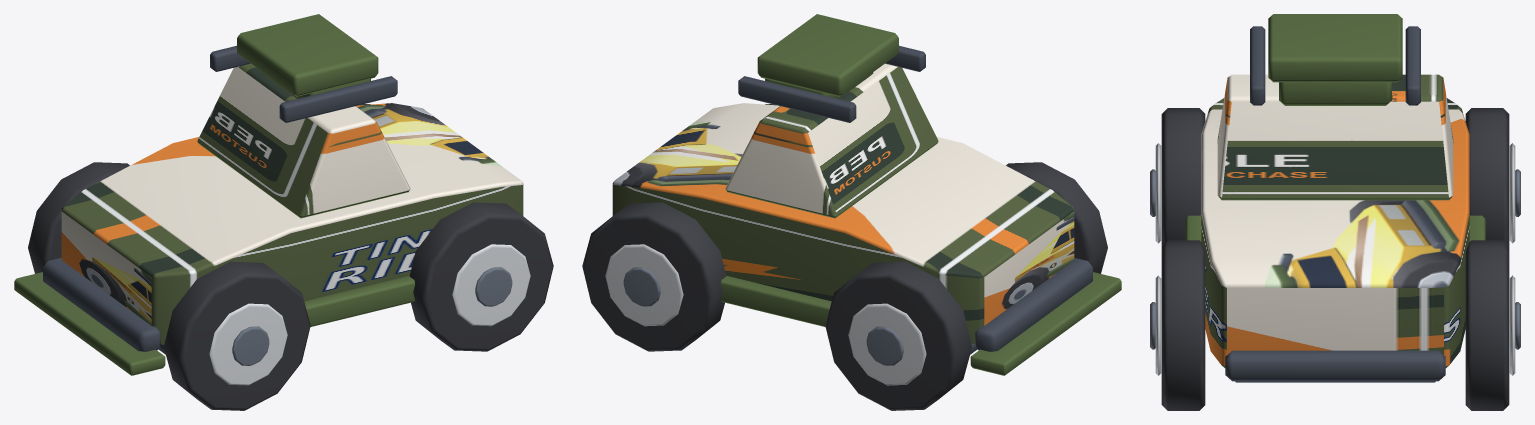
3 views of the same model, side by side, from view 1: azimuth 30°, elevation 25°; view 2: azimuth 150°, elevation 25°; view 3: azimuth 270°, elevation 25° (orthographic). The views are drawn at different scales.
Visible parts, largest first — view 1: DP-01_connected_shell, DP-01_cabin, Tire, Tire.002, utility load, custom chin, front bumper, Rim, Rim.002, Tire.001, custom side guard, utility rail (+3 smaller); view 2: DP-01_connected_shell, DP-01_cabin, Tire.001, Tire.003, utility load, custom chin, front bumper, Rim.001, Rim.003, Tire, custom side guard.001, utility rail.001 (+3 smaller); view 3: DP-01_connected_shell, DP-01_cabin, utility load, Tire.002, Tire.003, rear bumper, Tire, Tire.001, custom equipment, utility rail, utility rail.001, Rim (+6 smaller).
Boxes of the visible parts, x1,y1,x2,y2 form: DP-01_connected_shell: (61, 103, 523, 344); DP-01_cabin: (197, 63, 410, 218); Tire: (164, 261, 310, 410); Tire.002: (409, 202, 553, 351); utility load: (237, 14, 378, 96); custom chin: (14, 272, 165, 375); front bumper: (43, 258, 161, 351); Rim: (209, 303, 287, 385); Rim.002: (452, 244, 530, 326); Tire.001: (28, 162, 129, 273); custom side guard: (304, 275, 415, 326); utility rail: (279, 76, 397, 122); DP-01_connected_shell: (612, 103, 1074, 344); DP-01_cabin: (725, 63, 938, 218); Tire.001: (825, 261, 971, 410); Tire.003: (582, 202, 726, 351); utility load: (757, 14, 898, 96); custom chin: (970, 272, 1121, 375); front bumper: (974, 258, 1092, 351); Rim.001: (848, 303, 926, 385); Rim.003: (605, 244, 683, 326); Tire: (1006, 162, 1107, 273); custom side guard.001: (720, 275, 831, 326); utility rail.001: (738, 76, 856, 122); DP-01_connected_shell: (1201, 98, 1469, 367); DP-01_cabin: (1217, 74, 1453, 200); utility load: (1268, 14, 1402, 82); Tire.002: (1161, 240, 1205, 410); Tire.003: (1465, 240, 1509, 410); rear bumper: (1225, 350, 1445, 381); Tire: (1161, 108, 1205, 246); Tire.001: (1465, 108, 1509, 246); custom equipment: (1279, 82, 1391, 105); utility rail: (1250, 26, 1265, 105); utility rail.001: (1405, 26, 1420, 105); Rim: (1155, 143, 1161, 243).
Bounding box in the file's own units: 320 × 205 × 221.
